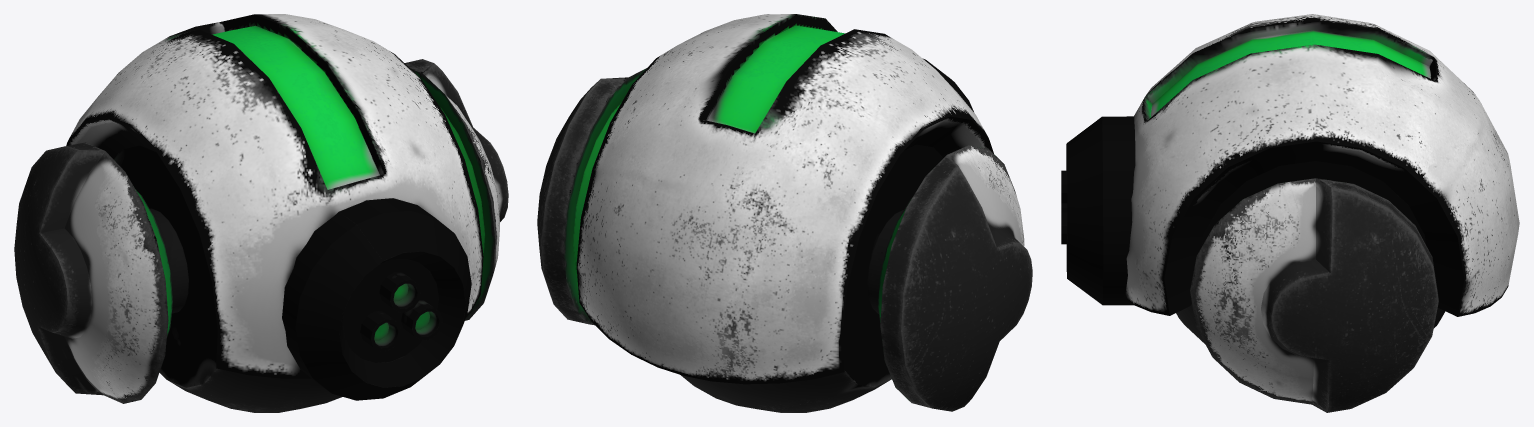
The model's file is robot drone.Obj.
The picture shows the model from 3 angles, left to right: view 1: azimuth 30°, elevation 25°; view 2: azimuth 150°, elevation 25°; view 3: azimuth 270°, elevation 25°; orthographic projection. The views are drawn at different scales.
Parts seen in each view (by area): view 1: polySurface10; view 2: polySurface10; view 3: polySurface10.
Boxes of the visible parts, x1,y1,x2,y2 form: polySurface10: (14, 14, 508, 412); polySurface10: (537, 14, 1032, 412); polySurface10: (1061, 14, 1519, 412).
Size of the model in its own units: 144 by 111 by 137.
